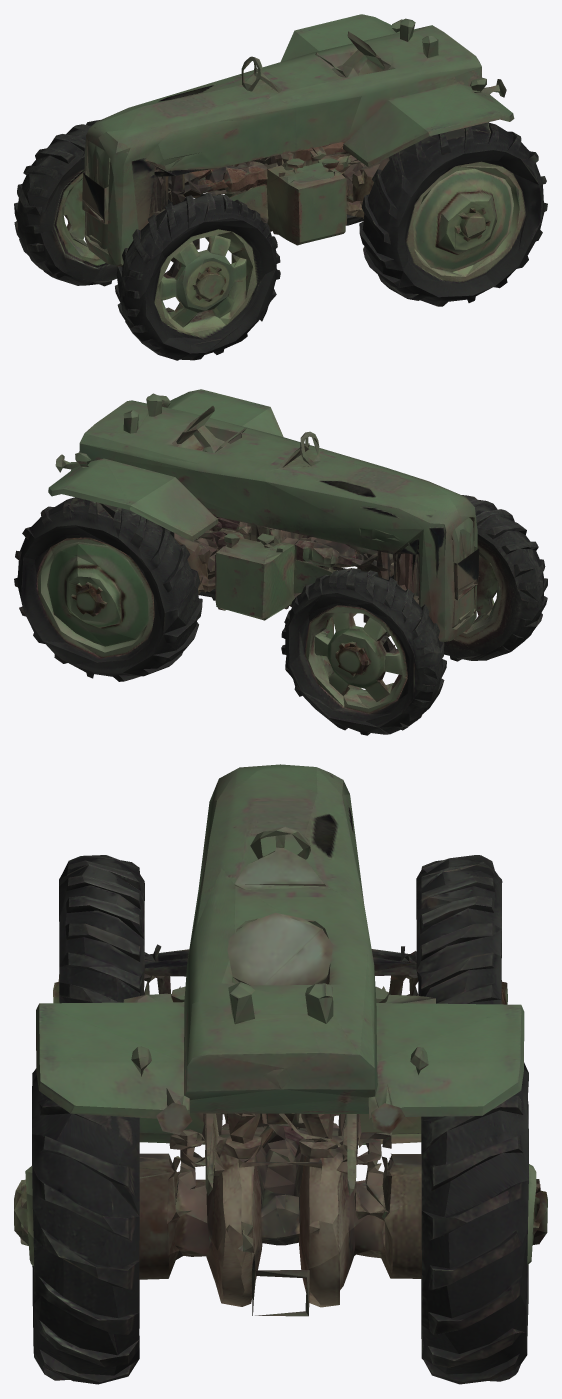
3 views of the same model, one above another, from view 1: azimuth 30°, elevation 25°; view 2: azimuth 150°, elevation 25°; view 3: azimuth 270°, elevation 25° (orthographic). The views are drawn at different scales.
Size of the model in its own units: 1.9 by 1.02 by 1.2.
Materials: 1 (1 with a texture image).
